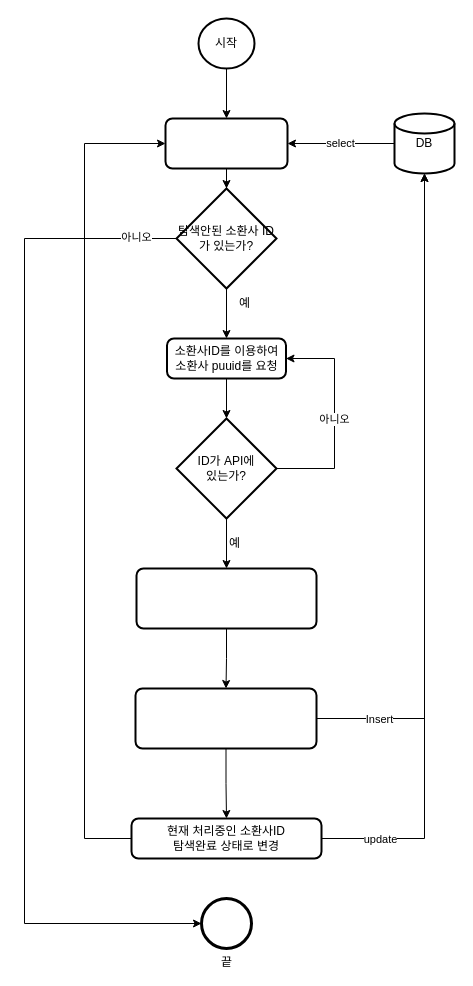
This 473x986 diagram has some shape labels left out. The centre of each missing label's shape, as x and y in pixels:
"DB에서 탐색 안된 소환사ID목록 가져오기" goes at [226,143].
"매치id, 매치정보와 소환사ID DB에 등록" goes at [225,718].
"소환사 puuid를 이용하여 매치id목록 가져오기" goes at [226,598].
